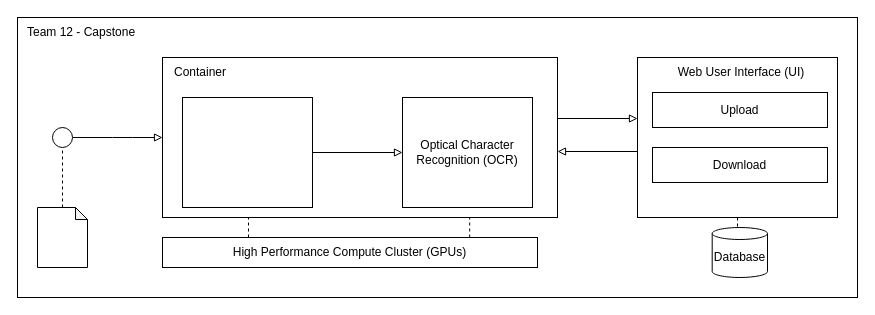
Some shapes in this 875 by 315 pixel diagram are drawn without their labels. The shapes that lost their labels are listed below. From the top down, each one's centre as x and y in pixels, then its label:
At (247,152): "Convolutional Nerual Net (CNN)".
At (62,237): "Labelled Images".
